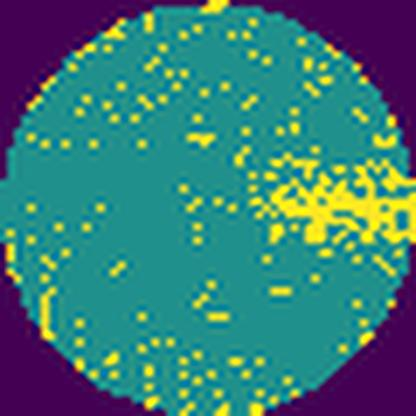Edge-Loc: (262, 154, 416, 249)
